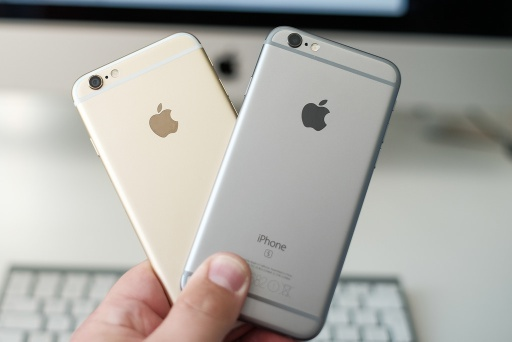apple: (293, 88, 338, 133), (146, 99, 186, 142)
